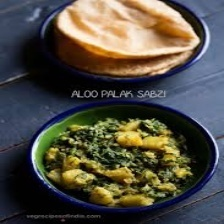roti: (49, 0, 202, 83)
